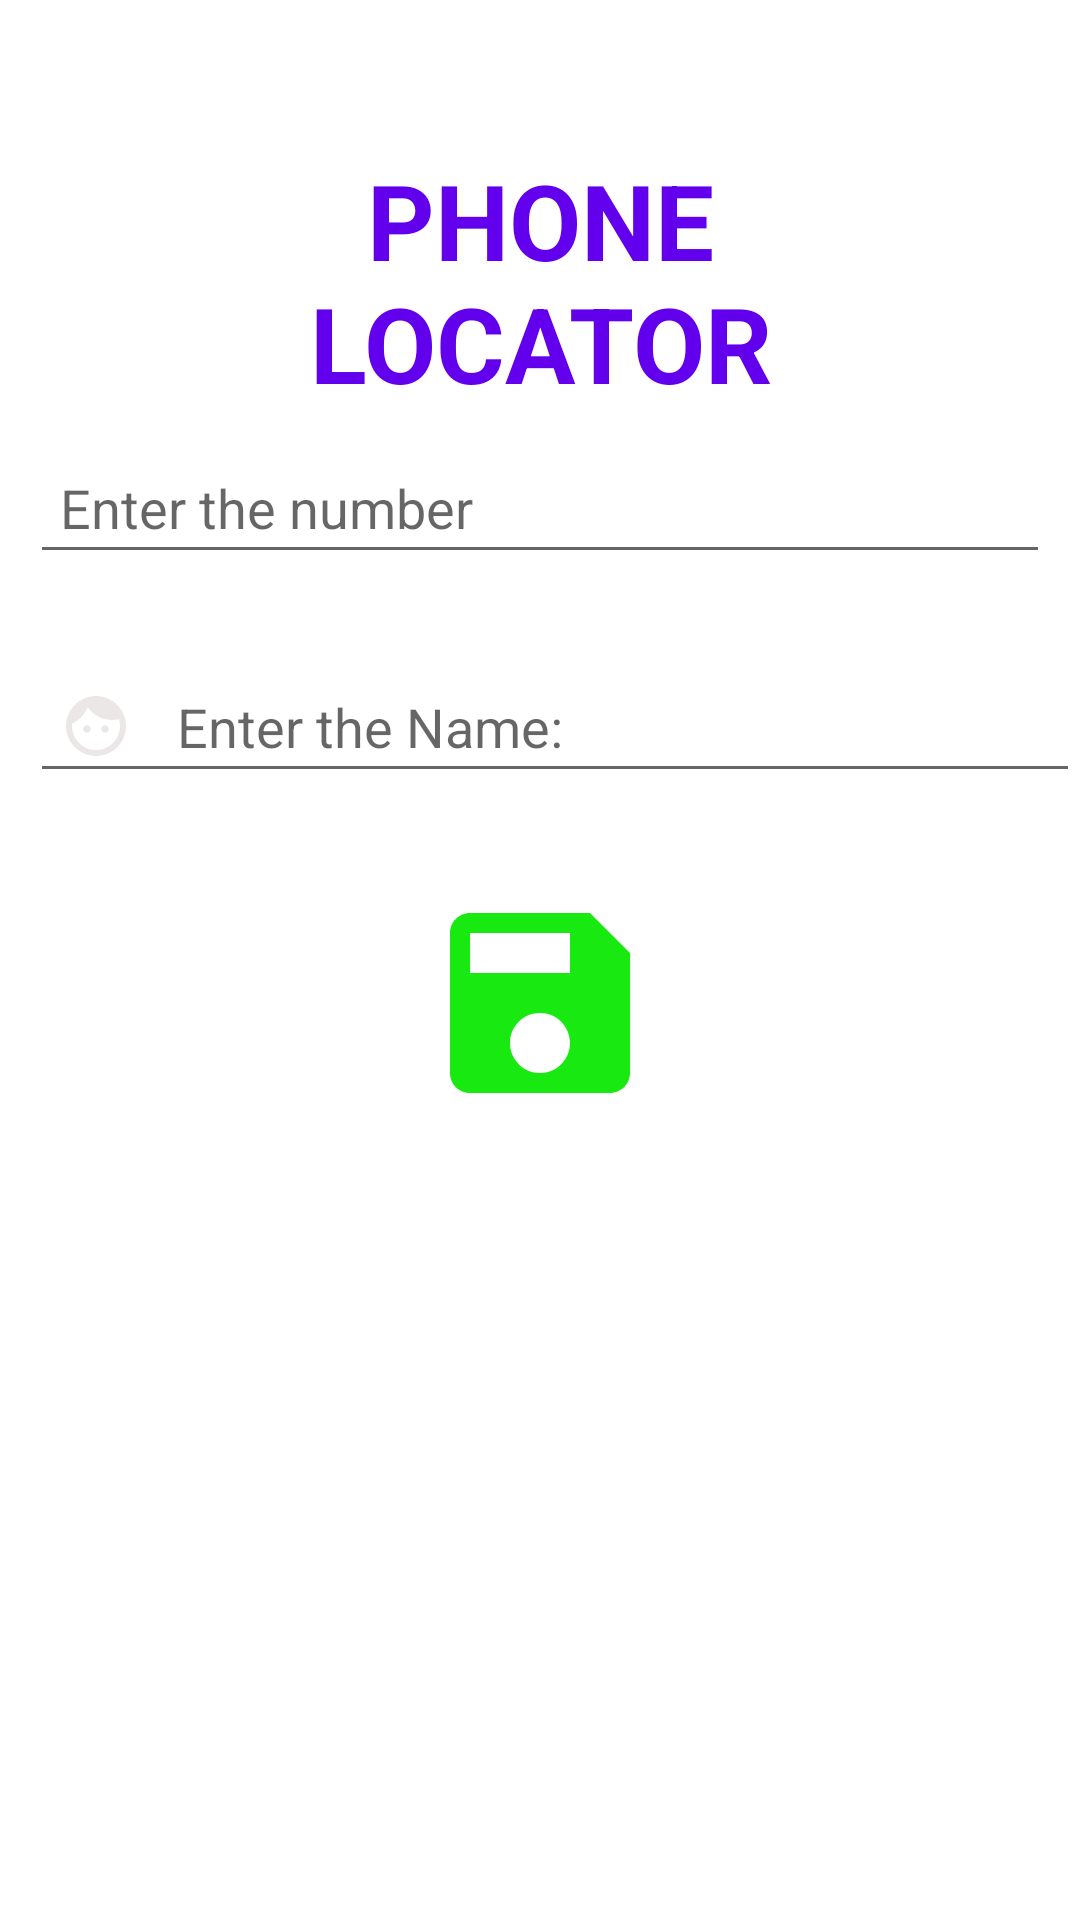

Screen size 1080px x 1920px. Icon name, then its center in pixels as (x,y):
save: (540,1003)
